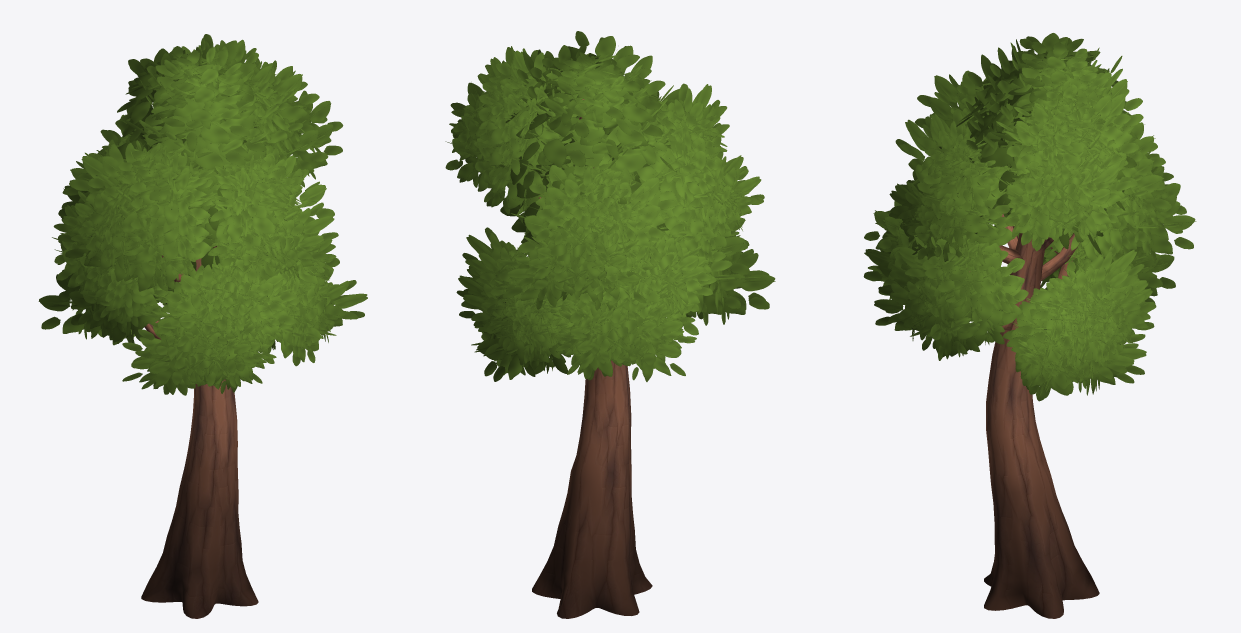
Rendered from Oak_1.glb.
3 renders of one model, left to right at view 1: azimuth 30°, elevation 25°; view 2: azimuth 150°, elevation 25°; view 3: azimuth 270°, elevation 25°, orthographic. The views are drawn at different scales.
Visible parts, largest first — view 1: CommonTree_1; view 2: CommonTree_1; view 3: CommonTree_1.
Boxes of the visible parts, x1,y1,x2,y2 form: CommonTree_1: (38,34,367,618); CommonTree_1: (445,31,775,618); CommonTree_1: (863,33,1196,618).
Bounding box in the file's own units: 4.31 × 7.26 × 4.58.
Materials: 2 (2 with a texture image).
